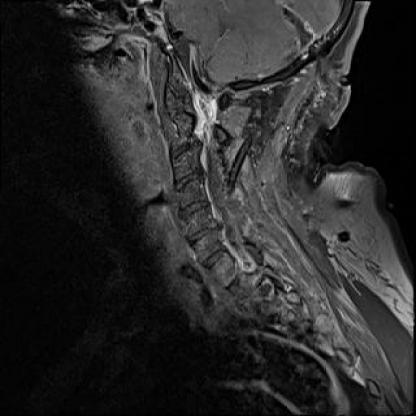Disc Protrusionrotation: (177, 199, 212, 216), (184, 227, 221, 242), (172, 171, 206, 187), (198, 251, 233, 265)
Osteophytesrotation: (184, 227, 221, 242), (172, 171, 206, 187)
